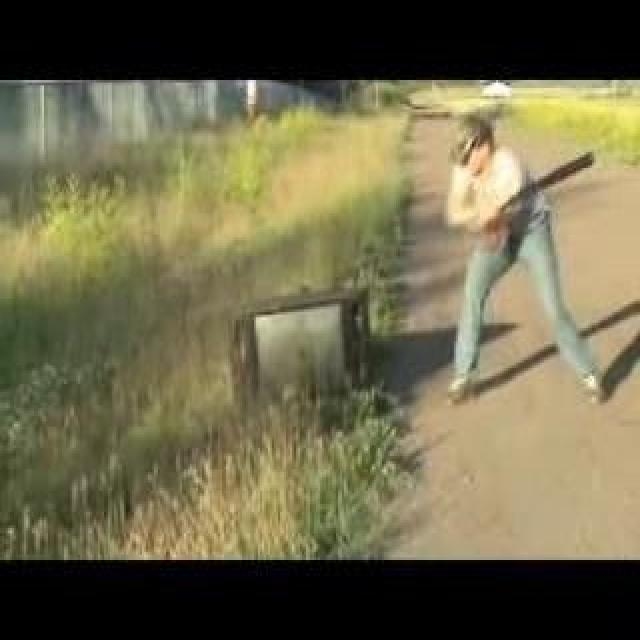fight: (406, 108, 640, 407)
